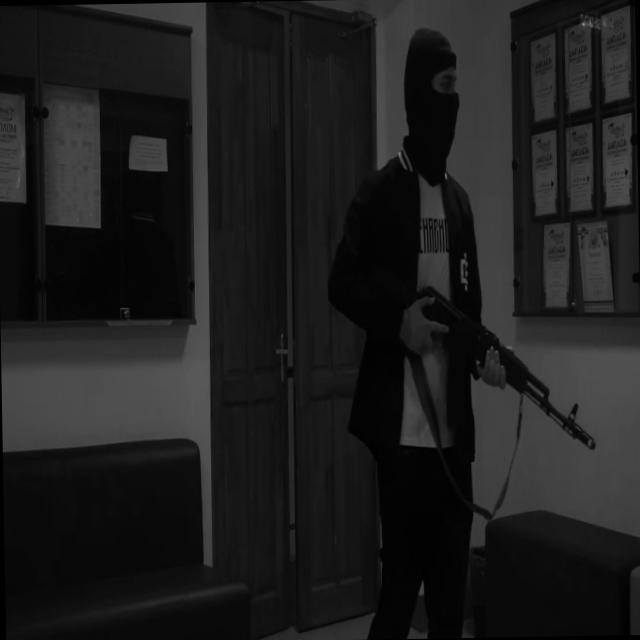gun: (368, 250, 597, 456)
person with a gun: (322, 24, 600, 640)
